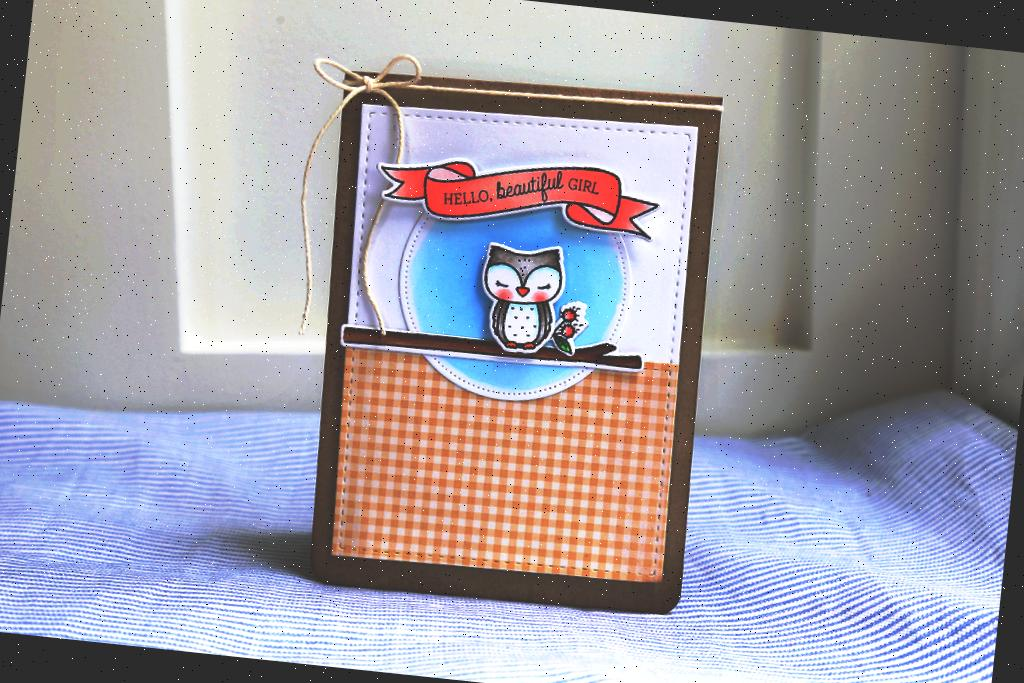Owl: (473, 239, 568, 358)
